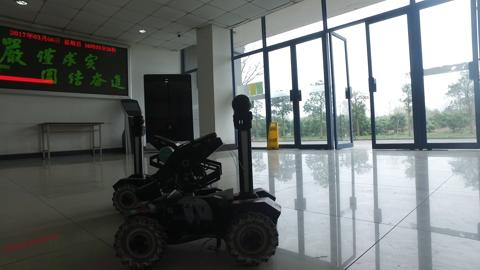chariot: (109, 88, 284, 263), (104, 112, 211, 213)
